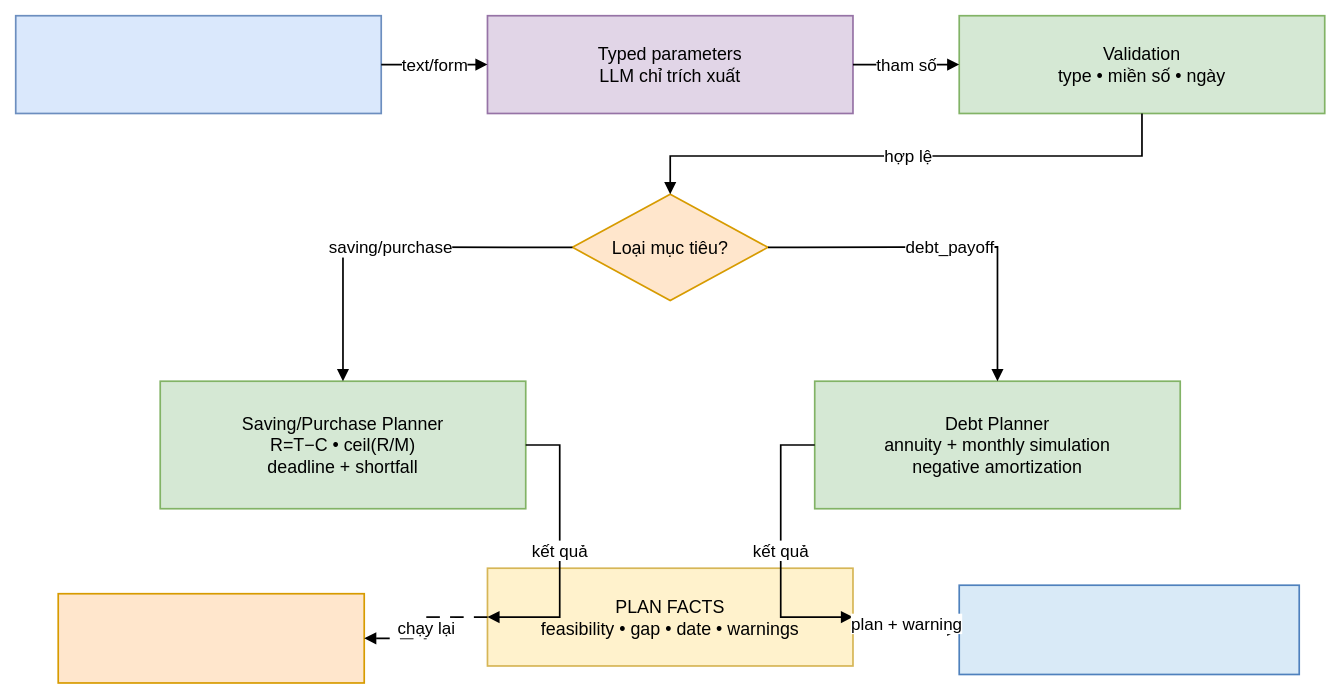
The diagram is 1340 pixels wide and 698 high, and some of its shapes have lost their labels. The centre of each missing label's shape, as x and y in pixels:
"Mục tiêu tự nhiên/form target • date • contribution • rate" goes at point 198,64.
"Preview token / pending Xác nhận → lưu goal" goes at point 1129,629.
"WHAT-IF M' = M + extra không sửa plan gốc" goes at point 211,637.
